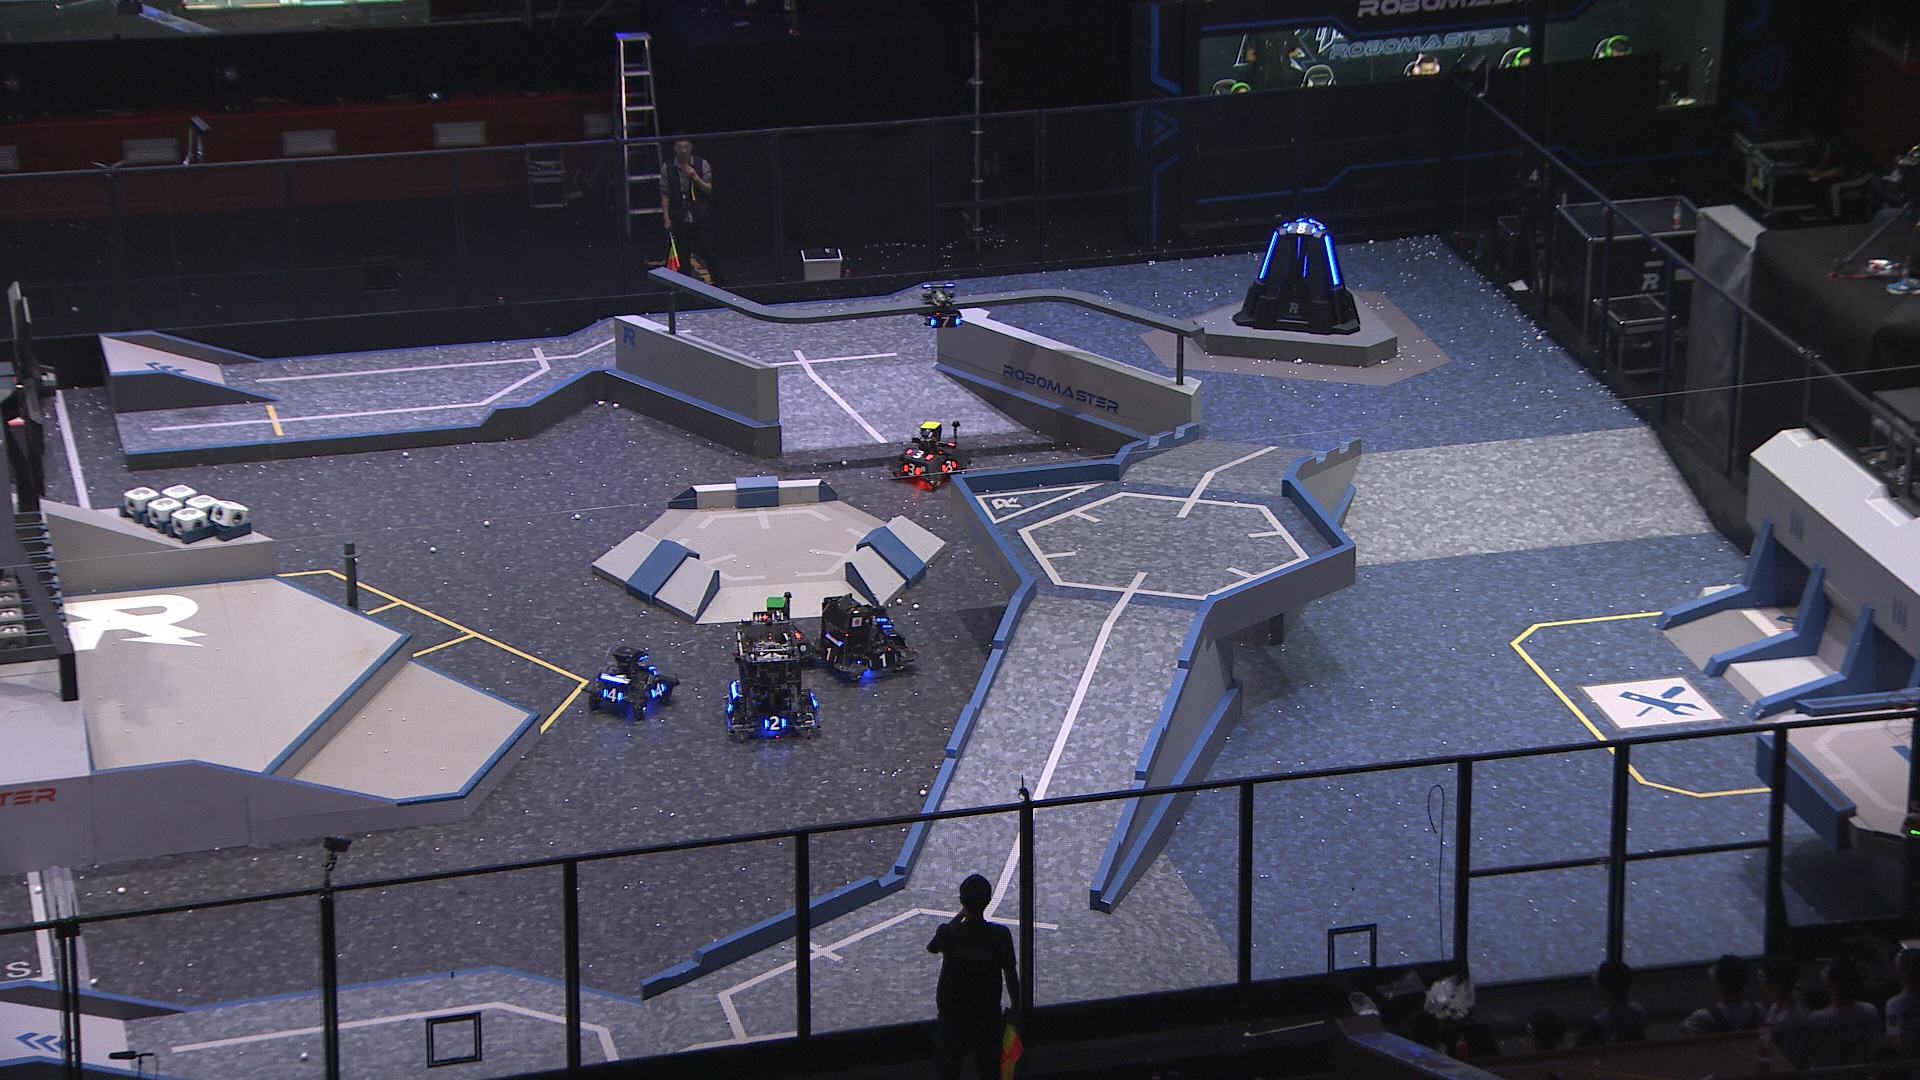armor: (1324, 233, 1342, 287), (1258, 232, 1278, 281), (869, 651, 901, 670), (906, 446, 935, 463), (764, 713, 789, 733), (930, 314, 963, 328), (820, 642, 840, 666), (1288, 223, 1320, 237), (603, 684, 626, 703), (650, 683, 670, 700), (940, 458, 959, 475), (902, 463, 923, 476)
base: (1232, 218, 1365, 335)
car: (727, 611, 823, 740), (811, 593, 920, 684), (579, 647, 680, 717), (733, 591, 818, 666), (887, 419, 971, 489)
watcher: (920, 281, 965, 330)
